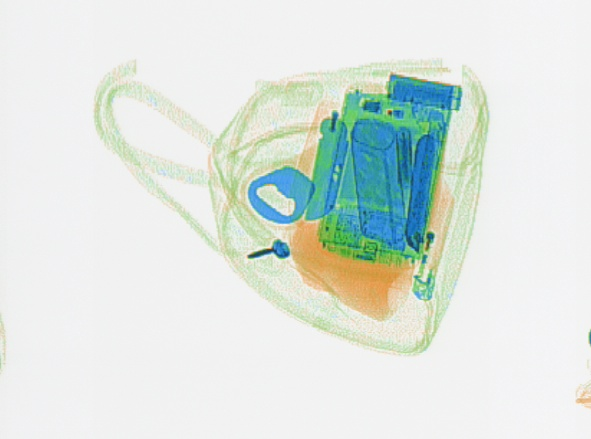knife: (286, 99, 348, 220), (403, 131, 439, 252)
lighter: (410, 185, 455, 300)
